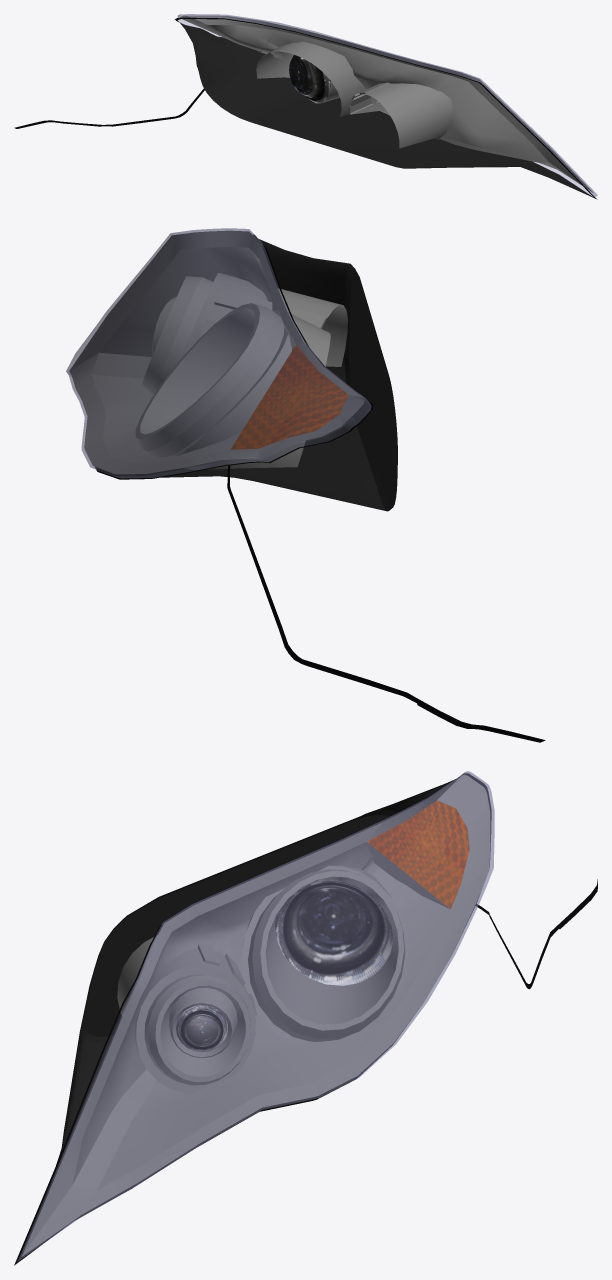
The picture shows the model from 3 angles, top to bottom: view 1: azimuth 30°, elevation 25°; view 2: azimuth 150°, elevation 25°; view 3: azimuth 270°, elevation 25°; orthographic projection. The views are drawn at different scales.
Visible parts, largest first — view 1: Y156_061B_L_Y156_061B_L_2_DaS, Y156_061B_L_Y156_061B_L_5_D, Y156_061B_L_Y156_061B_L_6_DTaSI, Y156_061B_L_Y156_061B_L_3_N, Y156_061B_L_Y156_061B_L_7_D; view 2: Y156_061B_L_Y156_061B_L_6_DTaSI, Y156_061B_L_Y156_061B_L_2_DaS, Y156_061B_L_Y156_061B_L_5_D, Y156_061B_L_1_N_Y156_061B_L, Y156_061B_L_Y156_061B_L_7_D; view 3: Y156_061B_L_Y156_061B_L_6_DTaSI, Y156_061B_L_Y156_061B_L_2_DaS, Y156_061B_L_Y156_061B_L_5_D, Y156_061B_L_Y156_061B_L_3_N, Y156_061B_L_1_N_Y156_061B_L, Y156_061B_L_Y156_061B_L_7_D, Y156_061B_L_Y156_061B_L_4_N.
Boxes of the visible parts, bbox=[...] form: Y156_061B_L_Y156_061B_L_2_DaS: bbox=[181, 15, 593, 192]; Y156_061B_L_Y156_061B_L_5_D: bbox=[178, 21, 593, 197]; Y156_061B_L_Y156_061B_L_6_DTaSI: bbox=[177, 14, 597, 197]; Y156_061B_L_Y156_061B_L_3_N: bbox=[289, 55, 330, 103]; Y156_061B_L_Y156_061B_L_7_D: bbox=[14, 17, 597, 199]; Y156_061B_L_Y156_061B_L_6_DTaSI: bbox=[66, 228, 371, 478]; Y156_061B_L_Y156_061B_L_2_DaS: bbox=[69, 230, 364, 474]; Y156_061B_L_Y156_061B_L_5_D: bbox=[98, 239, 397, 511]; Y156_061B_L_1_N_Y156_061B_L: bbox=[230, 345, 348, 449]; Y156_061B_L_Y156_061B_L_7_D: bbox=[95, 235, 545, 742]; Y156_061B_L_Y156_061B_L_6_DTaSI: bbox=[17, 771, 494, 1262]; Y156_061B_L_Y156_061B_L_2_DaS: bbox=[22, 774, 490, 1256]; Y156_061B_L_Y156_061B_L_5_D: bbox=[17, 779, 455, 1261]; Y156_061B_L_Y156_061B_L_3_N: bbox=[275, 879, 392, 985]; Y156_061B_L_1_N_Y156_061B_L: bbox=[367, 800, 469, 909]; Y156_061B_L_Y156_061B_L_7_D: bbox=[14, 773, 597, 1265]; Y156_061B_L_Y156_061B_L_4_N: bbox=[176, 1005, 228, 1052].
Bounding box in the file's own units: 69.86 × 25.31 × 50.87.
